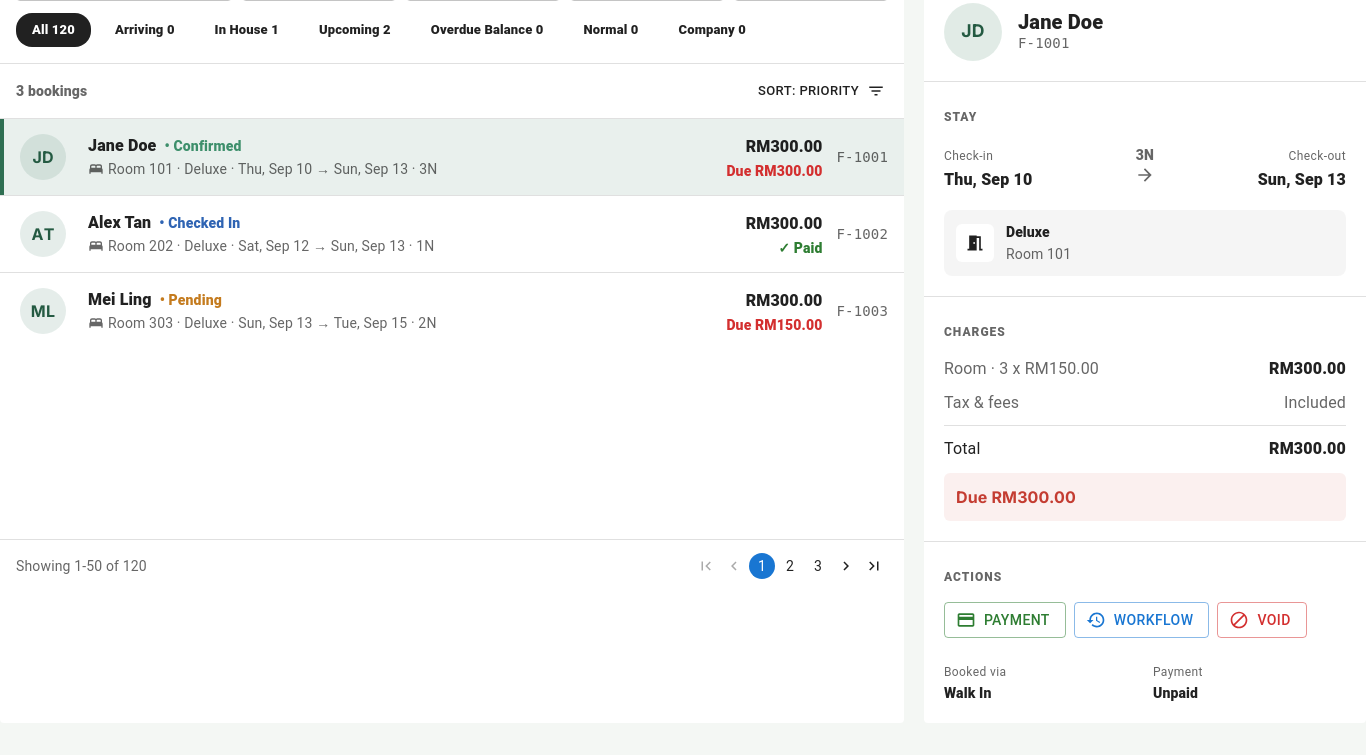
Scenario: BookingsPage › modals › dates the Accept Payment notice in the hotel timezone, not the viewer’s
This screenshot has width=1366, height=755.
(page scrolled)
Click the button "Payment".
click(1005, 620)  # box [944,602,1066,638]
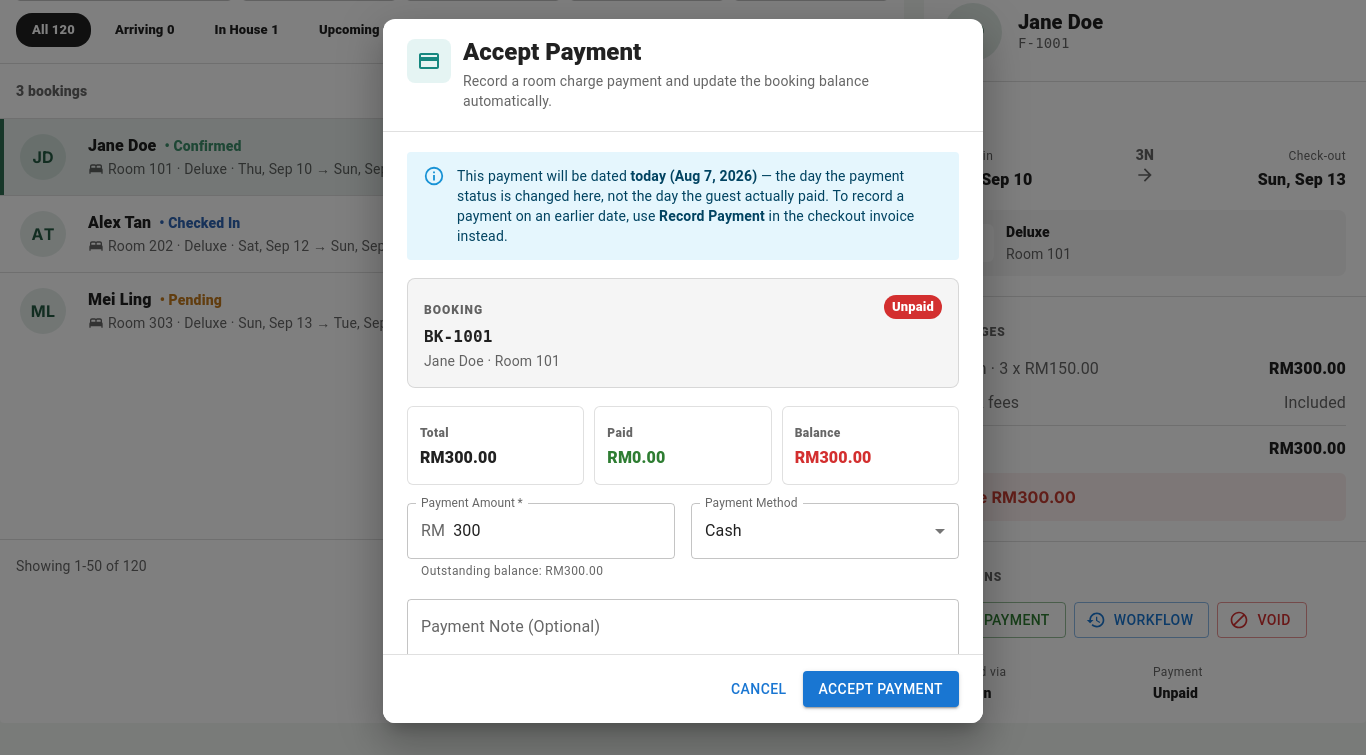
Check: the message shows "today (Aug 7, 2026)", box [407,152,959,260]
